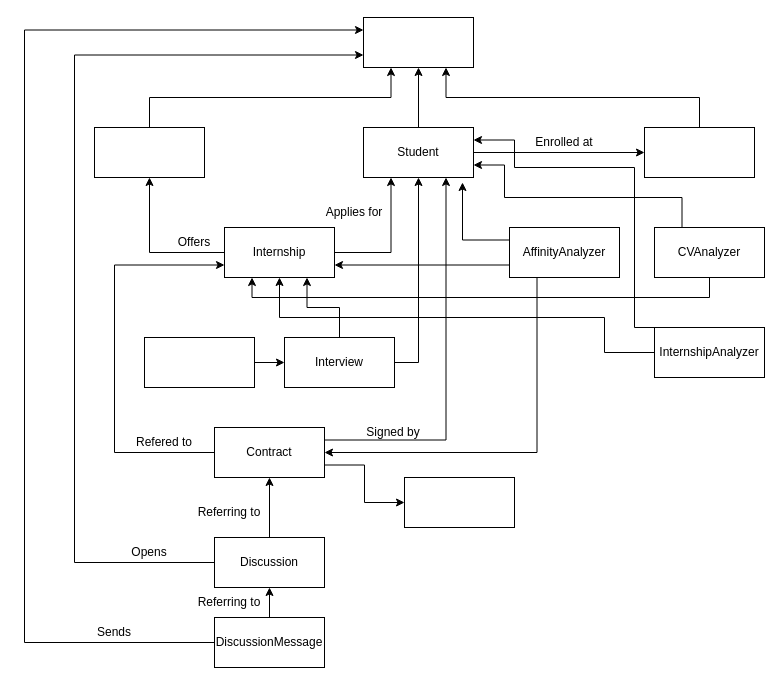
The diagram is 782 pixels wide and 685 high, and some of its shapes have lost their labels. The centre of each missing label's shape, as x and y in pixels:
"Company" goes at pixel 149 152.
"InternshipStatus" goes at pixel 459 502.
"Question" goes at pixel 199 362.
"University" goes at pixel 699 152.
"«abstract» User" goes at pixel 418 42.
